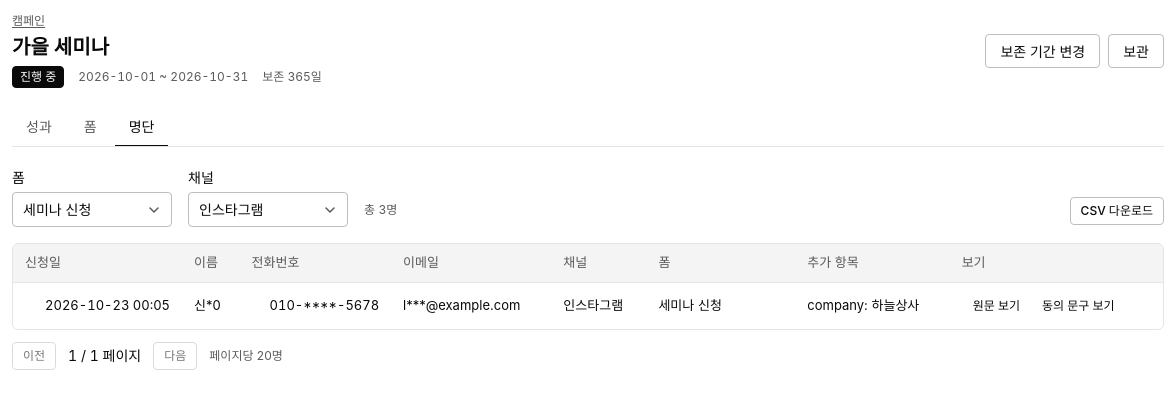
명단 CSV 다운로드 › 마스킹은 화면 필터로 바로 내려받고 원문을 요청하지 않는다
Expected: the text "신*0" is shown, [182,282,240,328]
Click the button "CSV 다운로드": (1117, 211) [1070,197,1164,225]
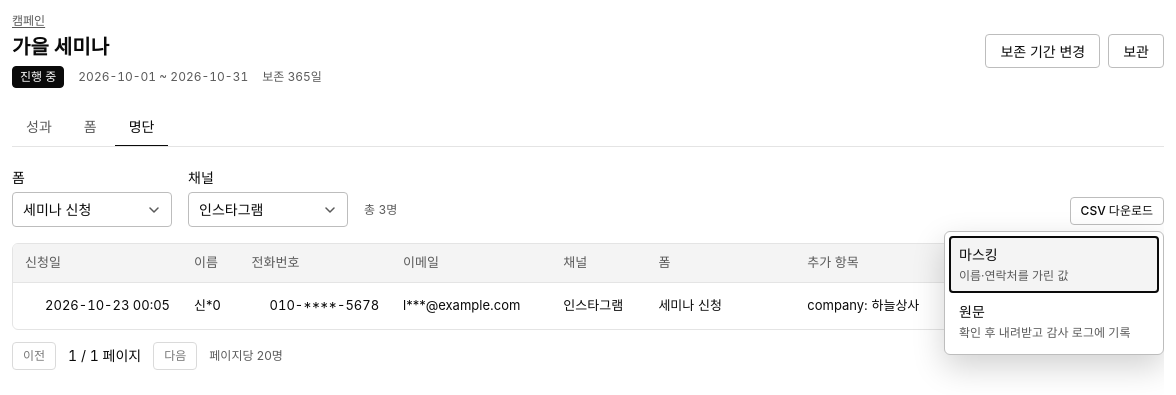
Click the menu item "마스킹 이름·연락처를 가린 값": (1054, 264) [949,236,1159,293]
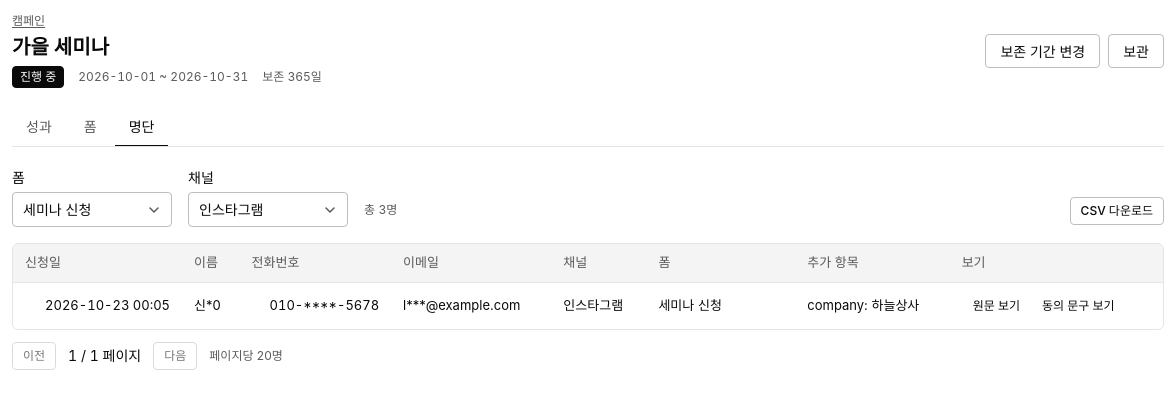
Now the menu is gone
